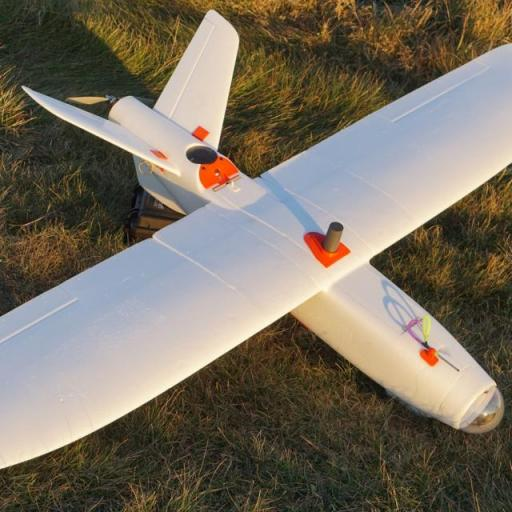uav: (0, 9, 509, 473)
